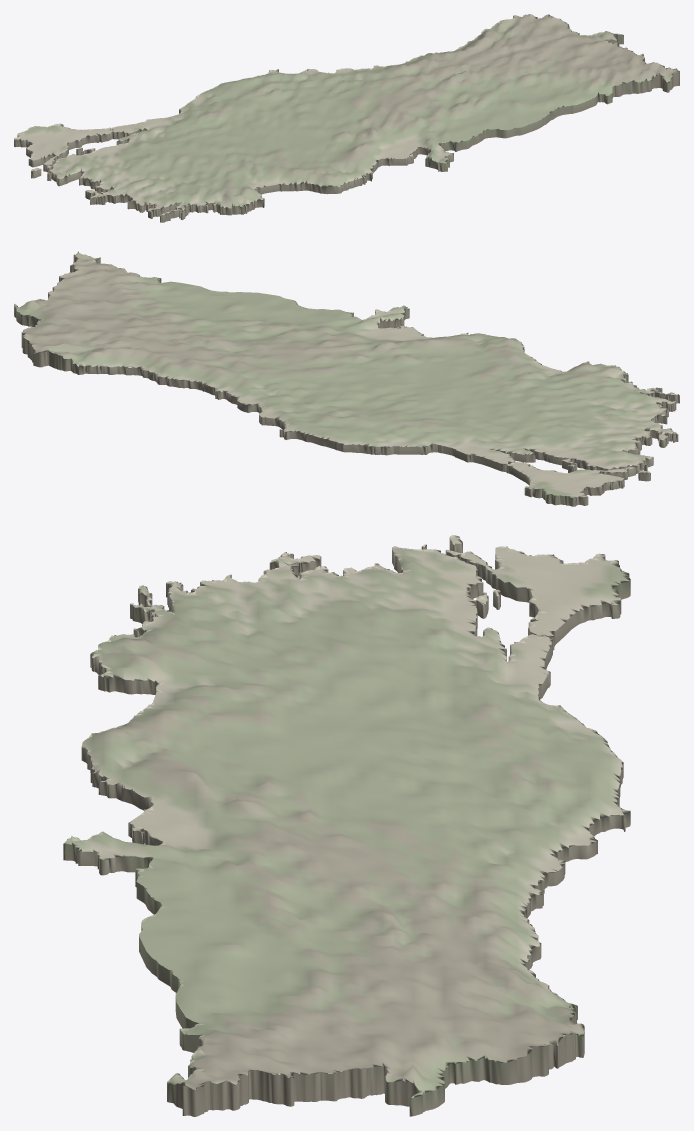
File: tr-desktop.glb
3 views of the same model, one above another, from view 1: azimuth 30°, elevation 25°; view 2: azimuth 150°, elevation 25°; view 3: azimuth 270°, elevation 25° (orthographic). The views are drawn at different scales.
Bounding box in the file's own units: 99.97 × 2.8 × 42.19.
